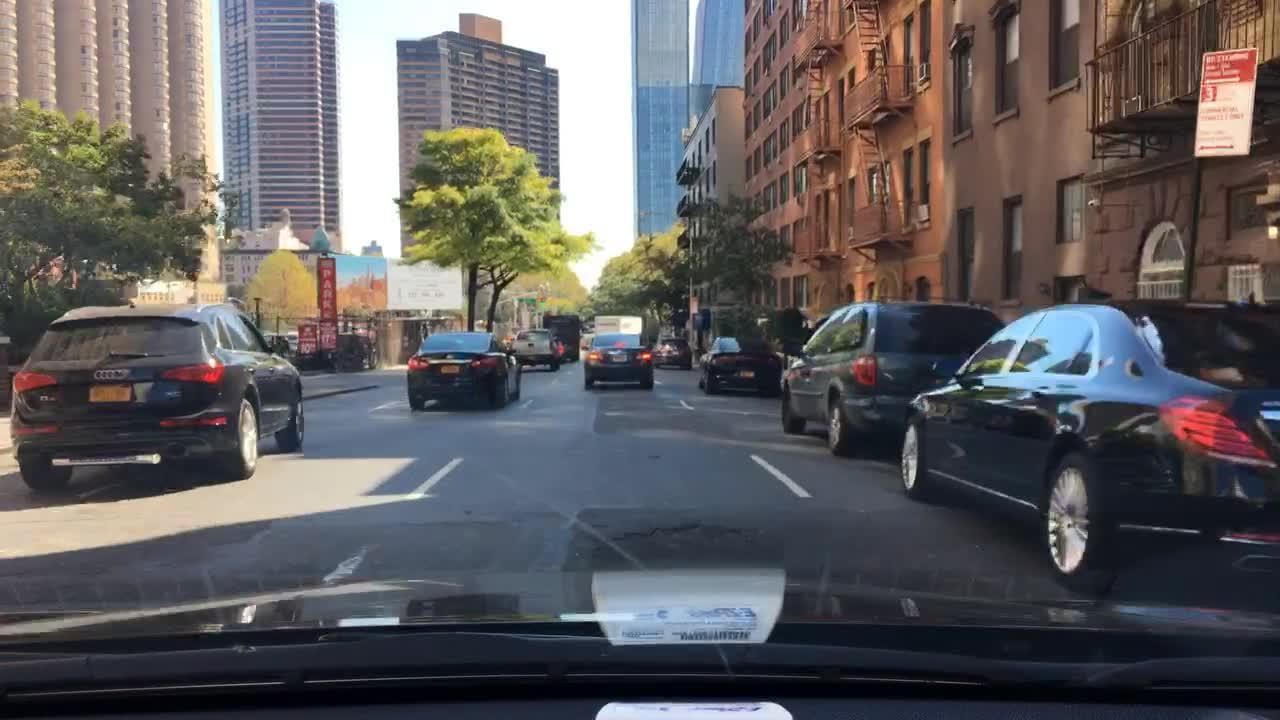Audi: (93, 368, 134, 382)
